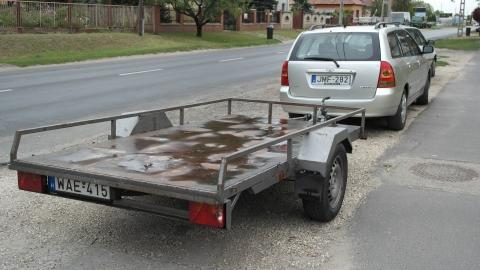trailer: (9, 98, 366, 230)
